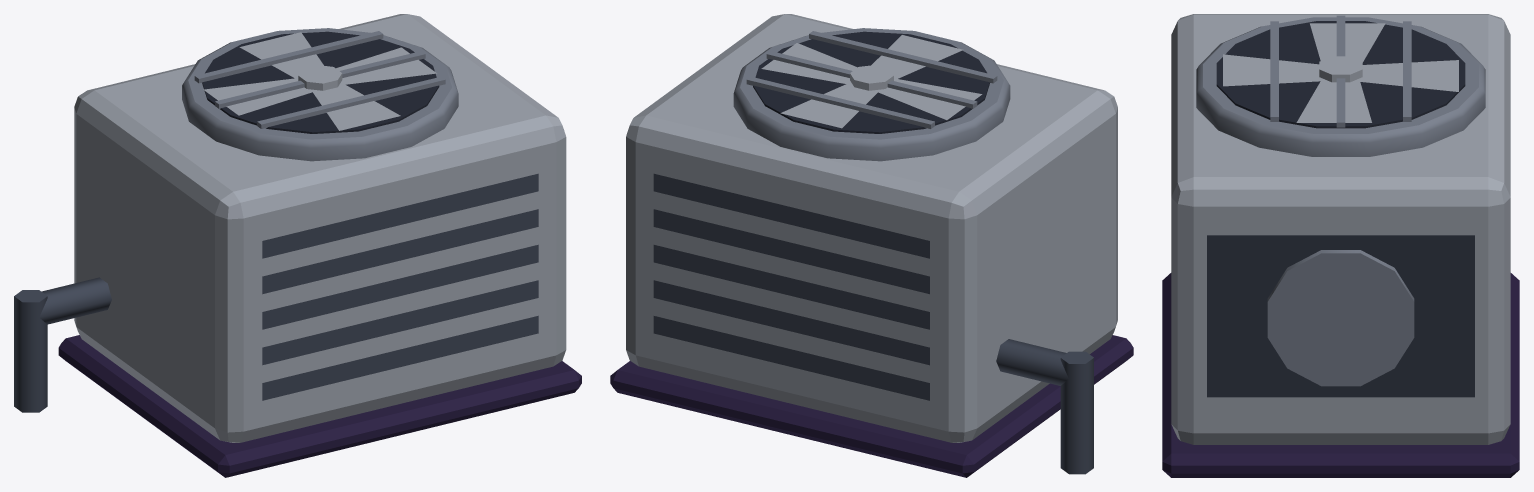
Rendered from neon-prop1.glb.
3 views of the same model, side by side, from view 1: azimuth 30°, elevation 25°; view 2: azimuth 150°, elevation 25°; view 3: azimuth 270°, elevation 25° (orthographic). The views are drawn at different scales.
Parts seen in each view (by area): view 1: neon-prop1; view 2: neon-prop1; view 3: neon-prop1.
Boxes of the visible parts, <box> form: neon-prop1: <box>14,14,581,477</box>; neon-prop1: <box>610,14,1133,477</box>; neon-prop1: <box>1162,14,1519,477</box>.
Bounding box in the file's own units: 1.21 × 0.795 × 0.8.
